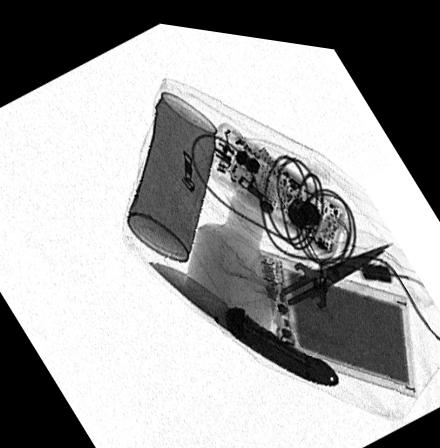Knife: (141, 254, 338, 378)
Powerbank: (255, 241, 418, 380)
Scissors: (244, 227, 393, 334)
